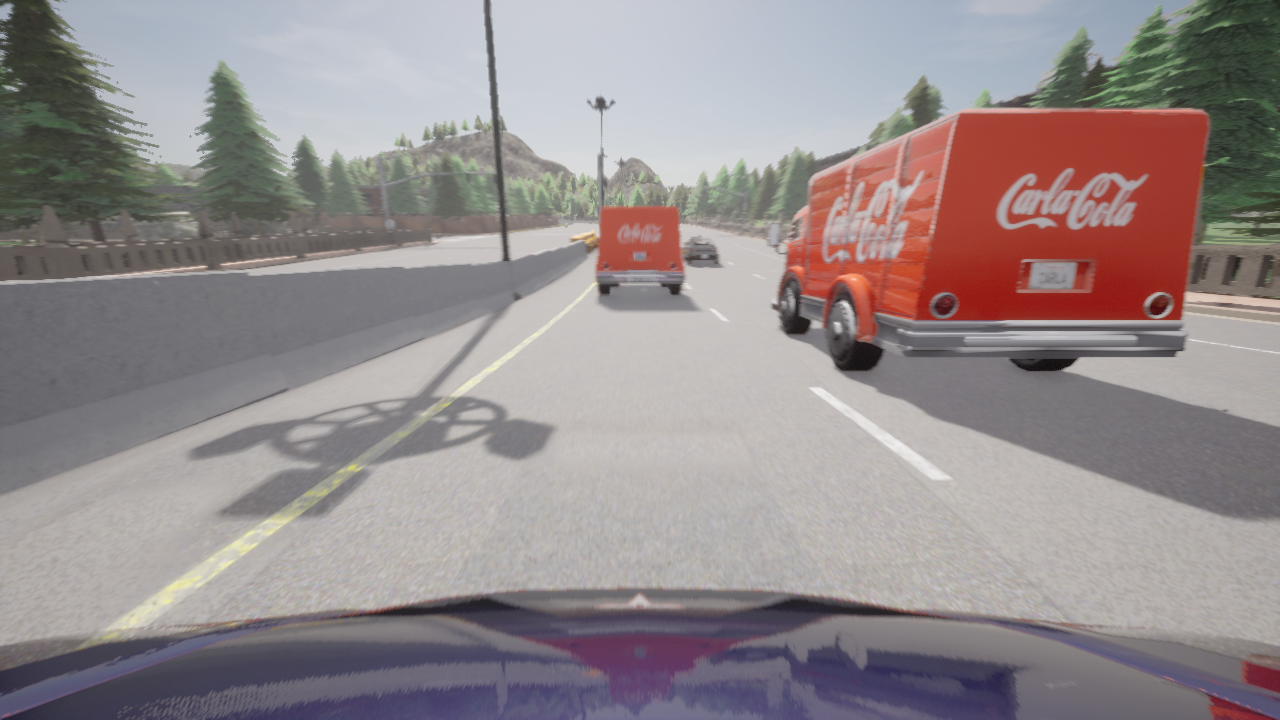cyclist: (0, 588, 1279, 719), (767, 109, 1209, 371), (596, 207, 684, 295), (683, 237, 718, 264)
